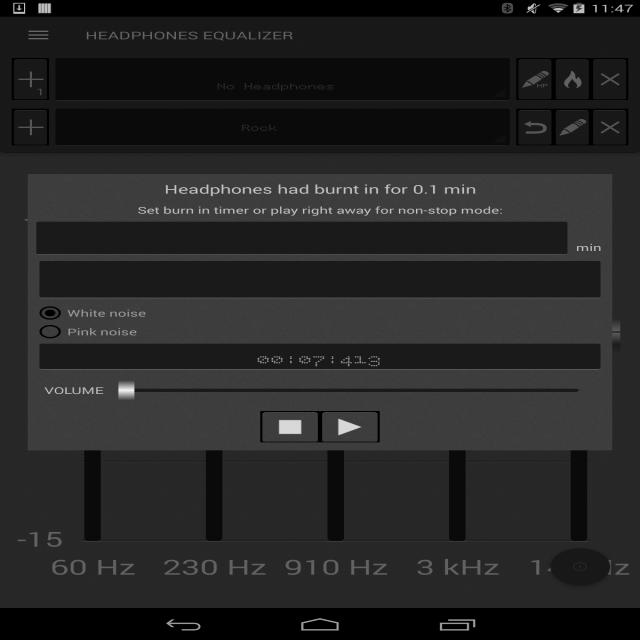EditText: (36, 222, 568, 255)
ImageButton: (260, 411, 320, 443), (320, 411, 380, 443)
RadioButton: (33, 302, 607, 324), (33, 324, 607, 339)
SeekBar: (110, 380, 596, 400)
TextView: (39, 344, 600, 369), (33, 178, 607, 200), (33, 200, 607, 220), (571, 220, 607, 257), (44, 384, 103, 397)
